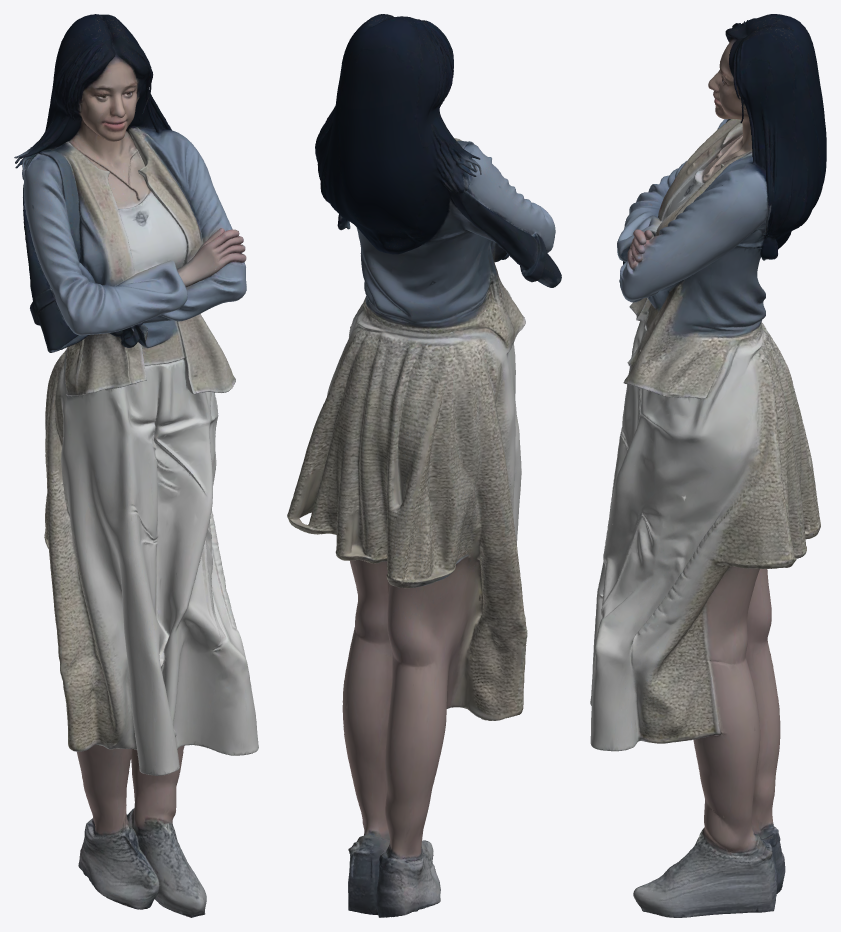
Rendered from character-compressed.glb.
3 views of the same model, side by side, from view 1: azimuth 30°, elevation 25°; view 2: azimuth 150°, elevation 25°; view 3: azimuth 270°, elevation 25° (orthographic). The views are drawn at different scales.
Parts seen in each view (by area): view 1: node_0; view 2: node_0; view 3: node_0.
Boxes of the visible parts, bbox=[...] form: node_0: bbox=[14, 14, 258, 917]; node_0: bbox=[287, 14, 561, 917]; node_0: bbox=[590, 14, 826, 917].
Bounding box in the file's own units: 0.285 × 1.18 × 0.2902.
1 material, 1 textured.
